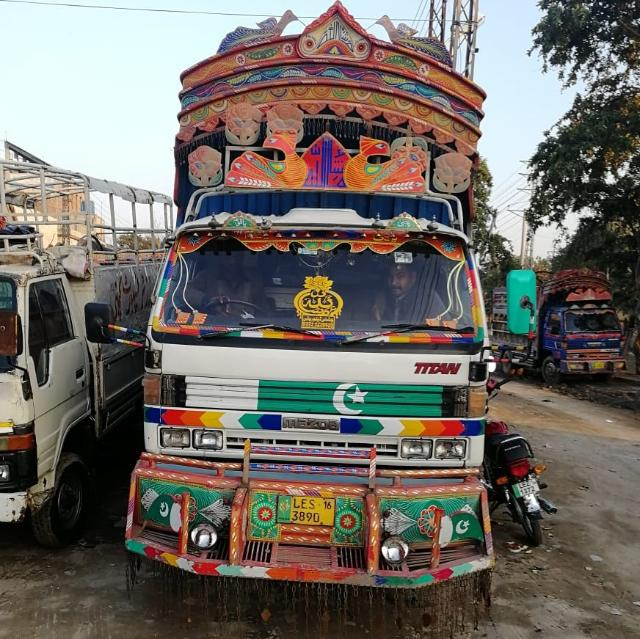plate: (274, 490, 340, 530)
